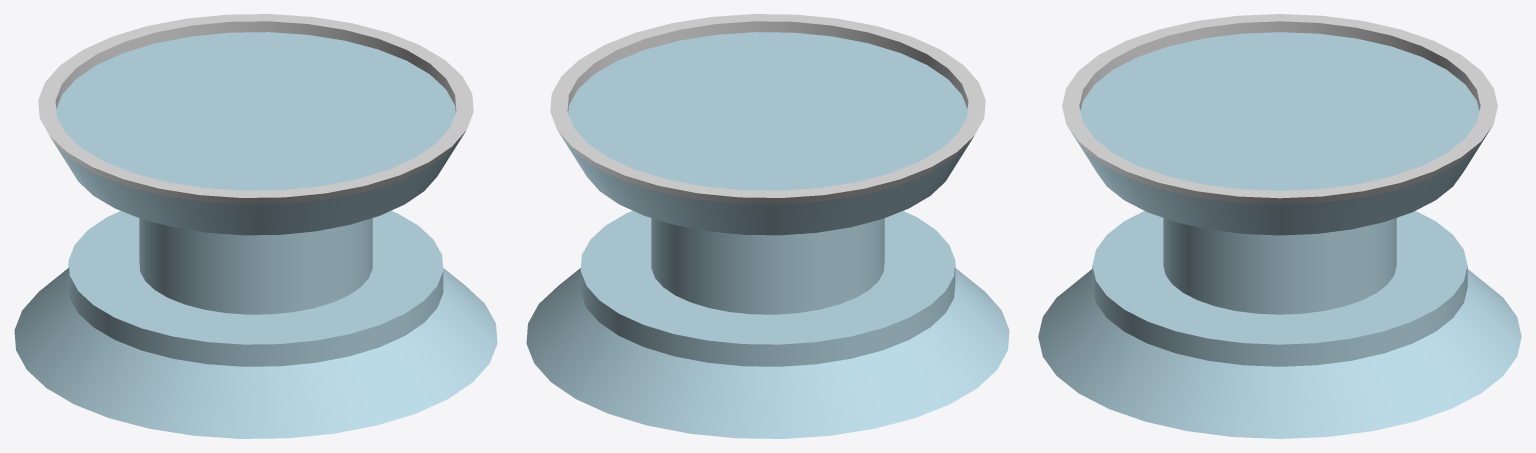
Rendered from ice_stage.fbx.
The picture shows the model from 3 angles, left to right: view 1: azimuth 30°, elevation 25°; view 2: azimuth 150°, elevation 25°; view 3: azimuth 270°, elevation 25°; orthographic projection.
Parts seen in each view (by area): view 1: IceStage; view 2: IceStage; view 3: IceStage.
Boxes of the visible parts, left/top/right/bottom form: IceStage: left=14, top=14, right=497, bottom=438; IceStage: left=526, top=14, right=1009, bottom=438; IceStage: left=1038, top=14, right=1521, bottom=438.
Size of the model in its own units: 200 by 105 by 200.
